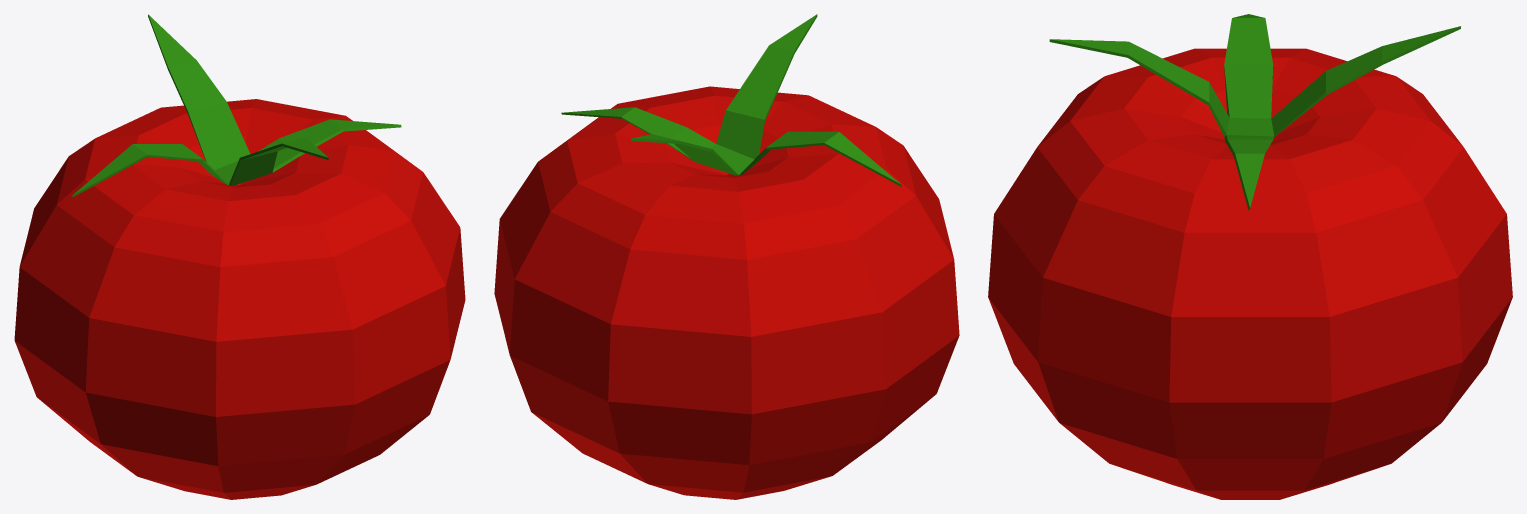
Rendered from Ma_Tomato.fbx.
3 views of the same model, side by side, from view 1: azimuth 30°, elevation 25°; view 2: azimuth 150°, elevation 25°; view 3: azimuth 270°, elevation 25° (orthographic). The views are drawn at different scales.
Parts seen in each view (by area): view 1: Ma_Tomato; view 2: Ma_Tomato; view 3: Ma_Tomato.
Part boxes in pixels (<box>): Ma_Tomato: <box>14,14,465,499</box>; Ma_Tomato: <box>494,14,959,499</box>; Ma_Tomato: <box>988,14,1512,499</box>.
Bounding box in the file's own units: 78.53 × 82.57 × 75.73.
